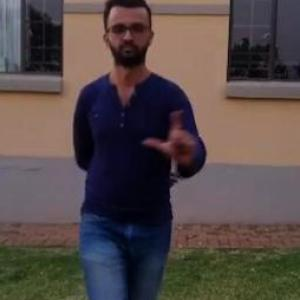land_hand: (140, 100, 204, 166)
